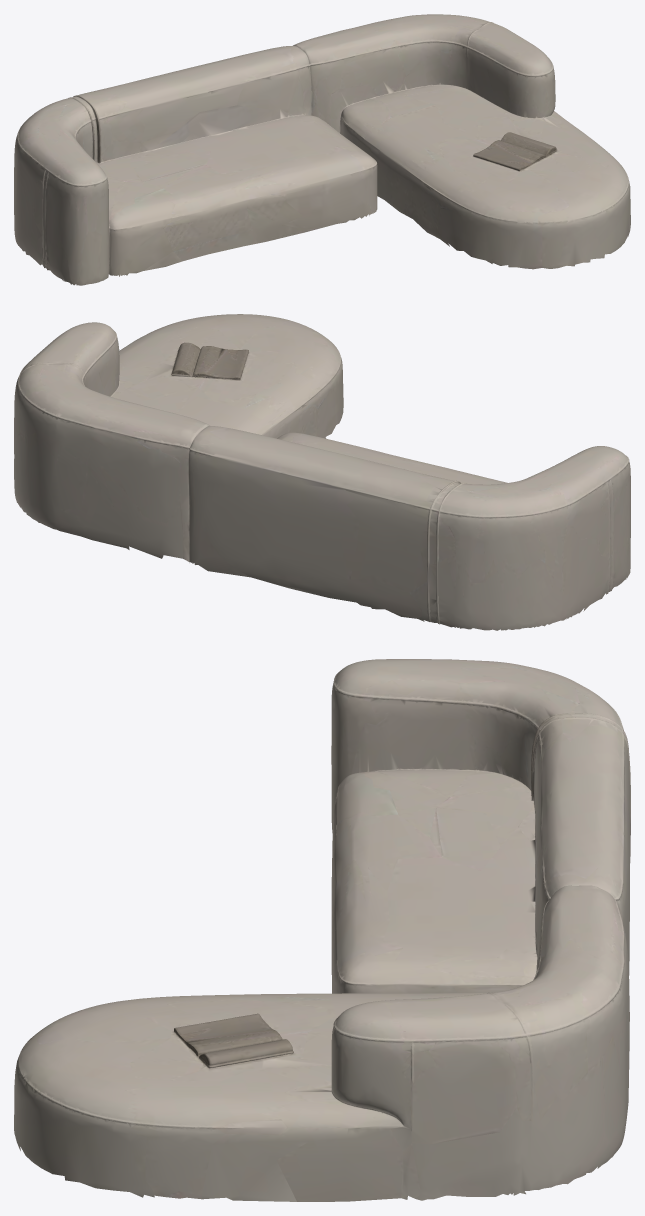
The picture shows the model from 3 angles, top to bottom: view 1: azimuth 30°, elevation 25°; view 2: azimuth 150°, elevation 25°; view 3: azimuth 270°, elevation 25°; orthographic projection. The views are drawn at different scales.
Visible parts, largest first — view 1: Mesh_0; view 2: Mesh_0; view 3: Mesh_0.
Part boxes in pixels (x1,y1,x2,y2): Mesh_0: (14, 14, 630, 285); Mesh_0: (14, 314, 630, 630); Mesh_0: (14, 659, 630, 1201).
Size of the model in its own units: 1.89 by 0.4089 by 1.29.
1 material, 1 textured.
